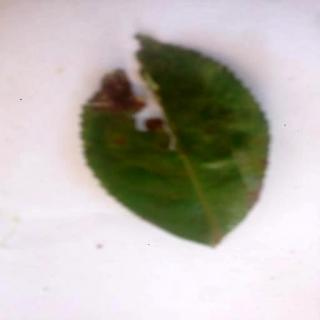Brown Blight: (81, 34, 270, 247)
